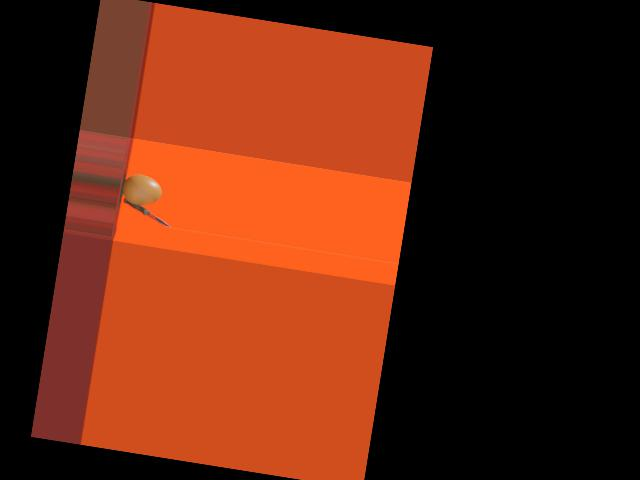egg: (120, 172, 163, 208)
